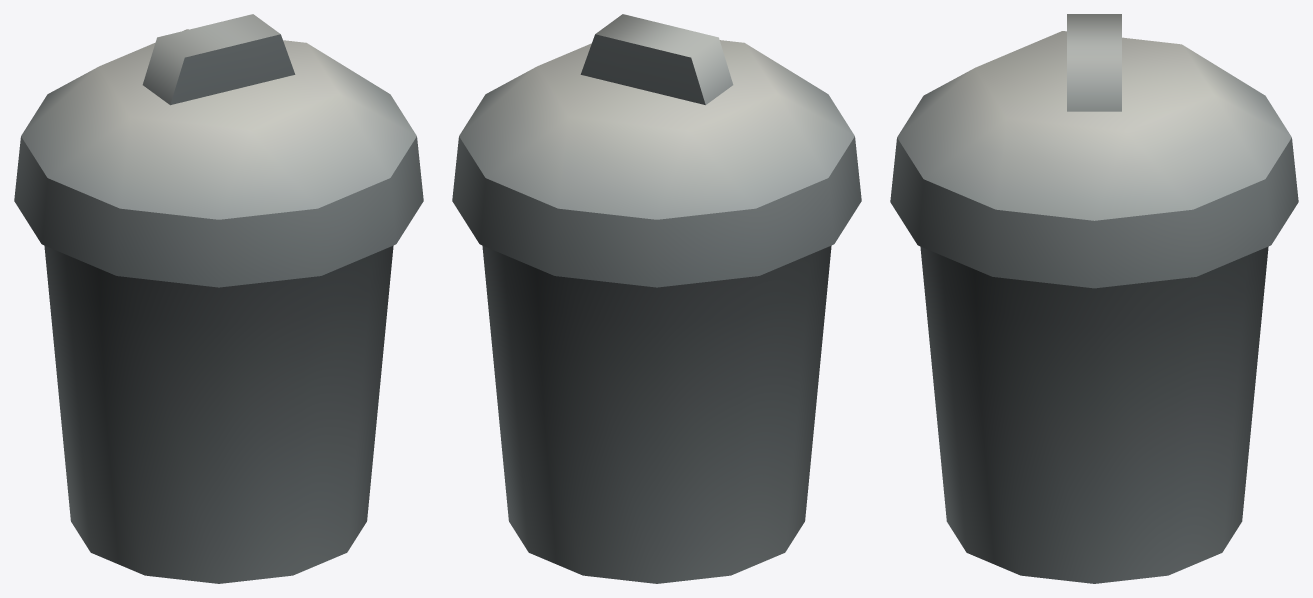
File: Trash_Can_2A.fbx
3 renders of one model, left to right at view 1: azimuth 30°, elevation 25°; view 2: azimuth 150°, elevation 25°; view 3: azimuth 270°, elevation 25°, orthographic.
Visible parts, largest first — view 1: Trash_Can_2A; view 2: Trash_Can_2A; view 3: Trash_Can_2A.
Part boxes in pixels (box(x1,y1,x2,y2)): Trash_Can_2A: box(14, 14, 423, 583); Trash_Can_2A: box(452, 14, 861, 583); Trash_Can_2A: box(890, 14, 1298, 583).
Bounding box in the file's own units: 1.06 × 1.39 × 1.06.
